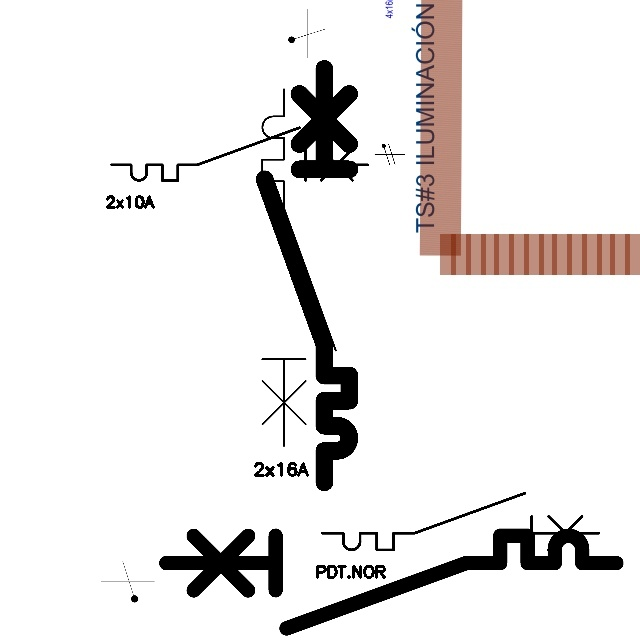interruptor_termomagnetico: (154, 524, 628, 640), (254, 58, 360, 493), (253, 80, 345, 455), (315, 486, 606, 557), (105, 121, 375, 187)
